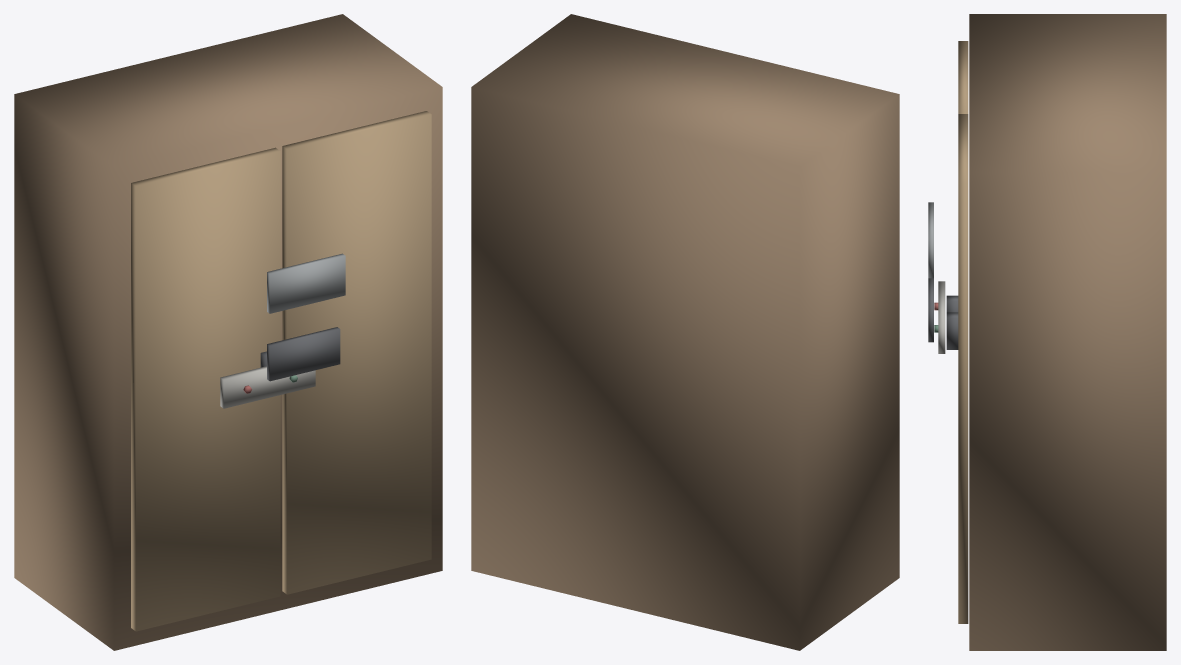
The model's file is tv_stand__weathered.glb.
The picture shows the model from 3 angles, left to right: view 1: azimuth 30°, elevation 25°; view 2: azimuth 150°, elevation 25°; view 3: azimuth 270°, elevation 25°; orthographic projection.
Visible parts, largest first — view 1: world; view 2: world; view 3: world.
Boxes of the visible parts, x1=… form: world: x1=14, y1=14, x2=442, y2=650; world: x1=471, y1=14, x2=899, y2=650; world: x1=928, y1=14, x2=1166, y2=650.
Bounding box in the file's own units: 0.95 × 1.34 × 0.6041.
